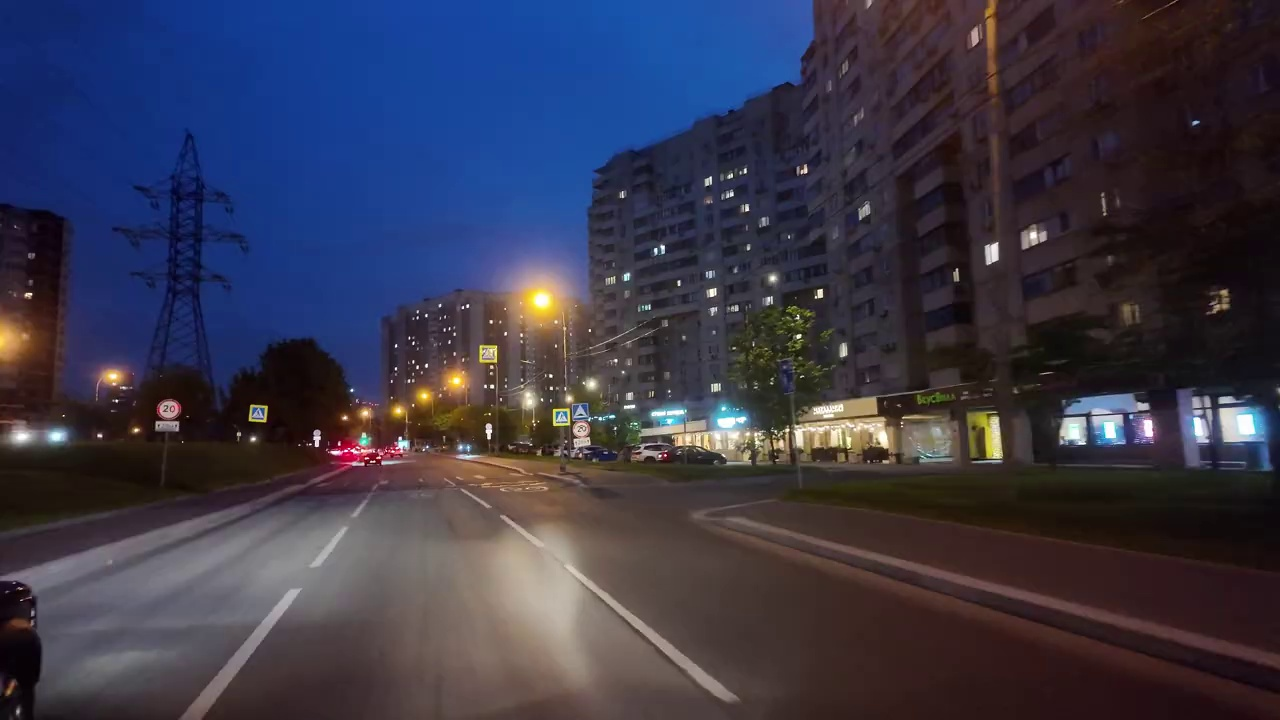acesa: (522, 284, 561, 322), (0, 322, 23, 363), (97, 364, 128, 392)
